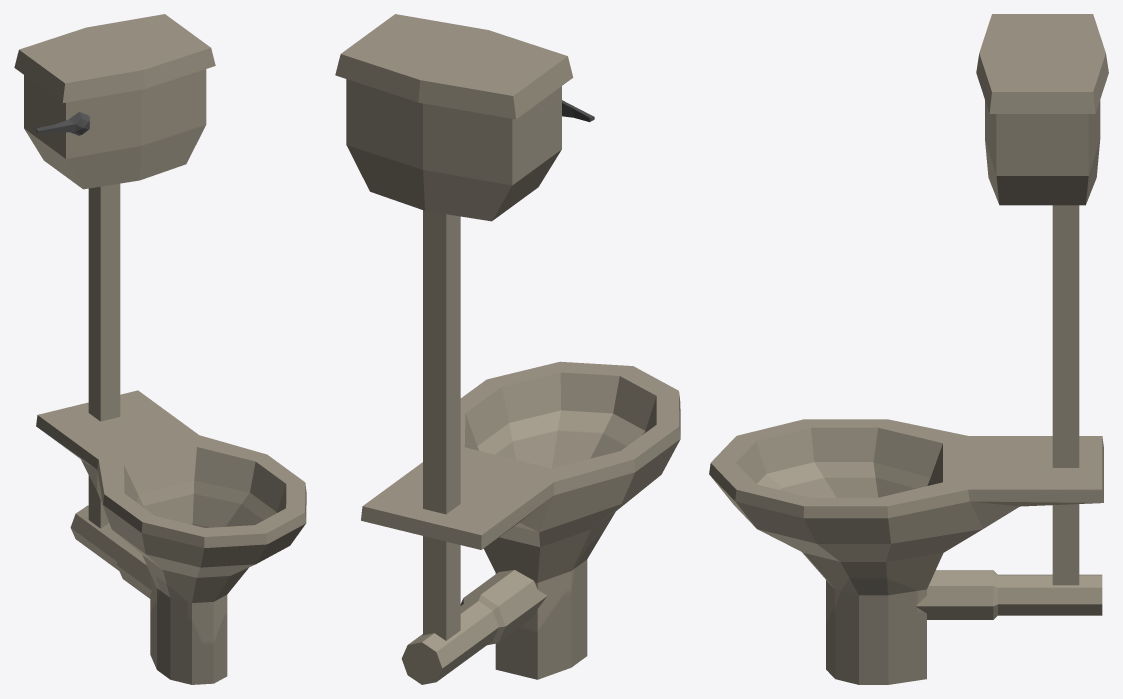
Rendered from SM_Prop_Toilet_01.glb.
3 renders of one model, left to right at view 1: azimuth 30°, elevation 25°; view 2: azimuth 150°, elevation 25°; view 3: azimuth 270°, elevation 25°, orthographic. The views are drawn at different scales.
Visible parts, largest first — view 1: SM_Prop_Toilet_01; view 2: SM_Prop_Toilet_01; view 3: SM_Prop_Toilet_01.
Part boxes in pixels (x1,y1,x2,y2): SM_Prop_Toilet_01: [14, 14, 306, 684]; SM_Prop_Toilet_01: [335, 14, 680, 684]; SM_Prop_Toilet_01: [709, 14, 1108, 684].
Bounding box in the file's own units: 0.4768 × 1.42 × 0.8356.
1 material, 1 textured.
